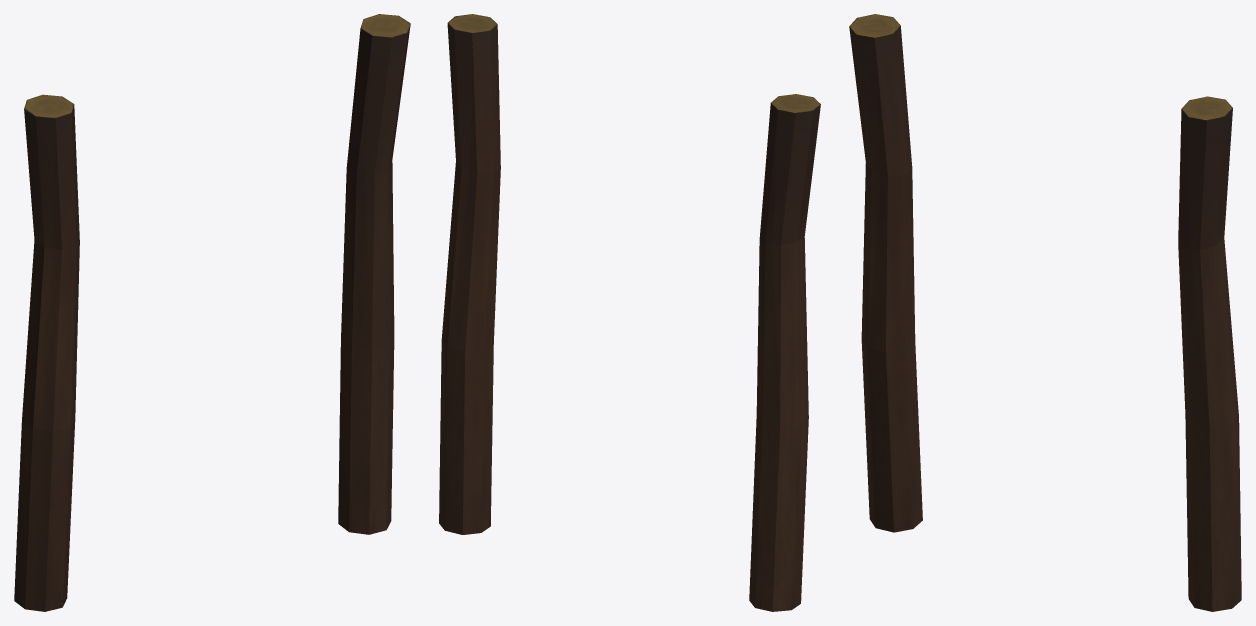
Rendered from Bridge-Support.fbx.
The picture shows the model from 3 angles, left to right: view 1: azimuth 30°, elevation 25°; view 2: azimuth 150°, elevation 25°; view 3: azimuth 330°, elevation 25°; orthographic projection. The views are drawn at different scales.
Parts seen in each view (by area): view 1: Cylinder.134; view 2: Cylinder.134; view 3: Cylinder.134.
Part boxes in pixels (x1,y1,x2,y2): Cylinder.134: (14, 14, 410, 611); Cylinder.134: (439, 14, 820, 611); Cylinder.134: (849, 14, 1241, 611).
Size of the model in its own units: 1063 by 1364 by 201.
